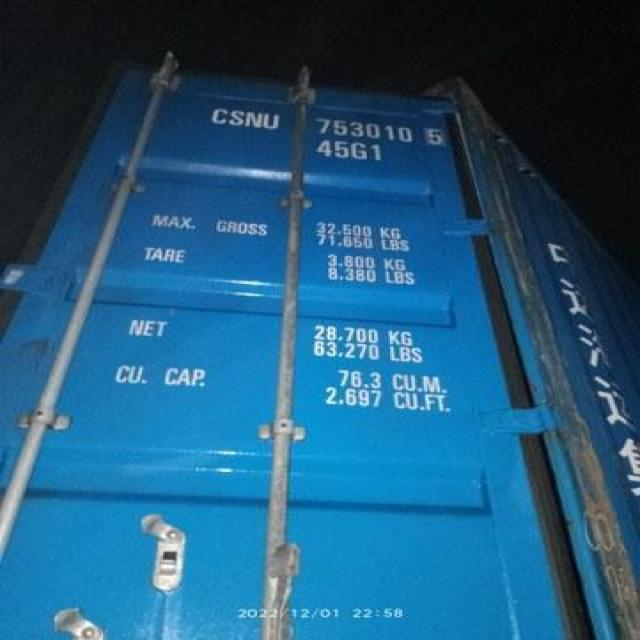ISO: (317, 140, 382, 160)
container_number: (203, 105, 440, 132)
